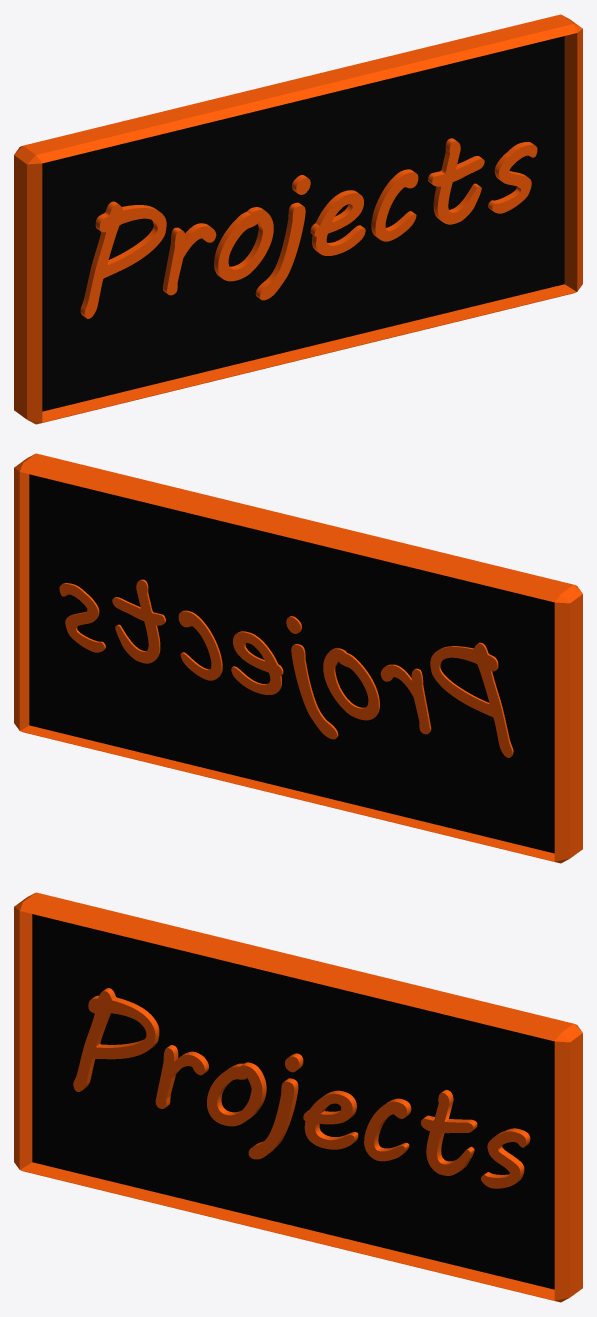
The model's file is projects.gltf.
3 views of the same model, one above another, from view 1: azimuth 30°, elevation 25°; view 2: azimuth 150°, elevation 25°; view 3: azimuth 330°, elevation 25° (orthographic).
Parts seen in each view (by area): view 1: Cube, Resume; view 2: Cube, Resume; view 3: Cube, Resume.
Boxes of the visible parts, x1,y1,x2,y2 form: Cube: [14, 14, 582, 424]; Resume: [80, 138, 537, 318]; Cube: [14, 453, 582, 863]; Resume: [59, 579, 513, 757]; Cube: [14, 892, 582, 1302]; Resume: [73, 988, 530, 1188].
Size of the model in its own units: 3.04 by 1.41 by 0.2142.
